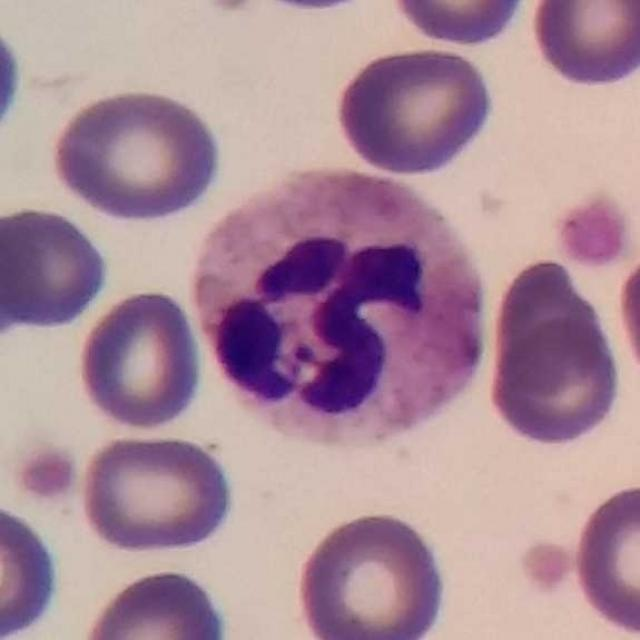Neutrophil: (180, 155, 501, 466)
Platelets: (550, 188, 638, 273), (8, 440, 81, 508)
RBC: (46, 84, 228, 227), (331, 42, 498, 178), (74, 427, 240, 560), (291, 505, 453, 640), (484, 252, 619, 405), (484, 311, 627, 453), (73, 285, 207, 434), (0, 200, 112, 342), (73, 563, 236, 640), (567, 476, 640, 638), (525, 0, 639, 91), (0, 495, 66, 640), (385, 0, 535, 49), (613, 240, 640, 398), (517, 535, 577, 598), (2, 27, 32, 139)
